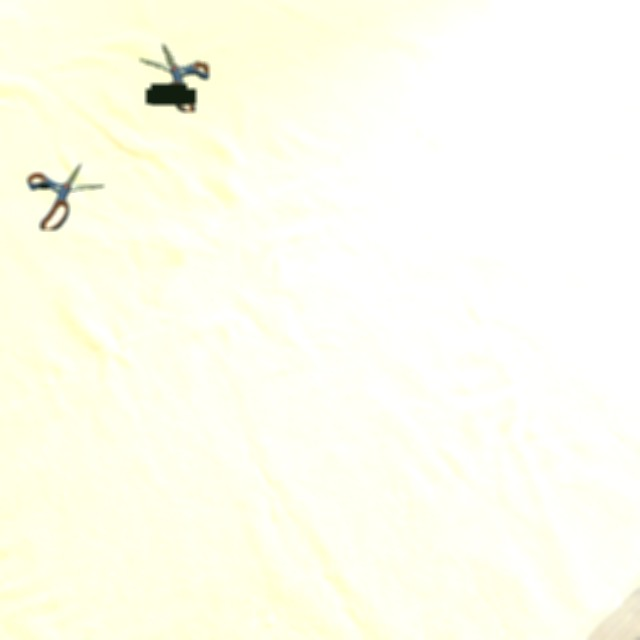scissors: (27, 163, 104, 230), (140, 44, 209, 112)
